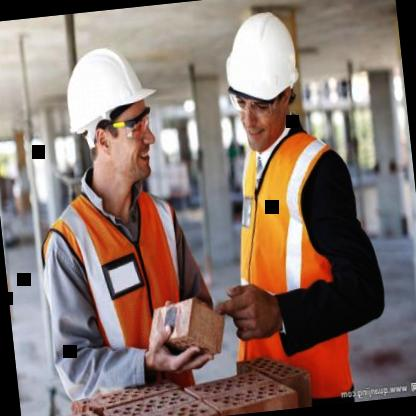helmet: (53, 28, 175, 211), (208, 0, 313, 158)
